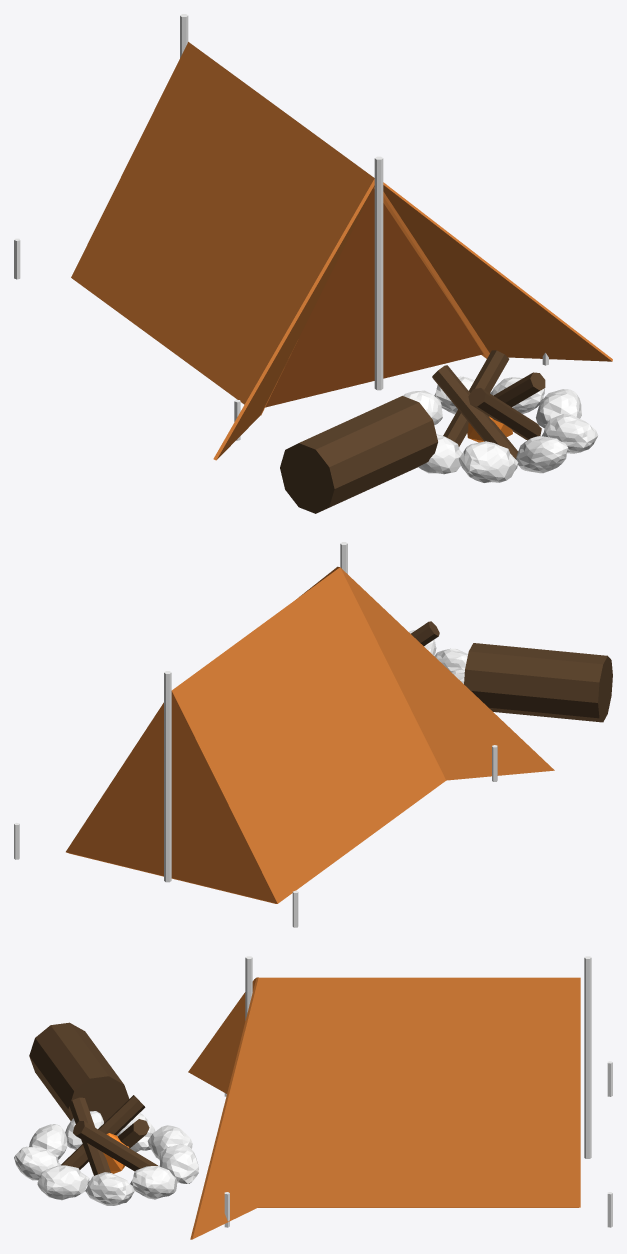
Rendered from cadir.glb.
The picture shows the model from 3 angles, top to bottom: view 1: azimuth 30°, elevation 25°; view 2: azimuth 150°, elevation 25°; view 3: azimuth 270°, elevation 25°; orthographic projection. The views are drawn at different scales.
Parts seen in each view (by area): view 1: Cadir; view 2: Cadir; view 3: Cadir.
Part boxes in pixels (bbox=[...]): Cadir: bbox=[14, 14, 612, 513]; Cadir: bbox=[14, 542, 612, 927]; Cadir: bbox=[14, 956, 612, 1239].
Size of the model in its own units: 0.5463 by 0.312 by 0.8132.
